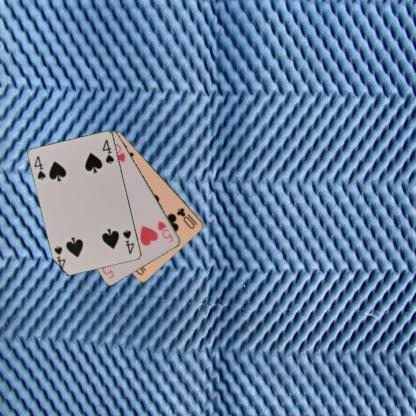10c: (174, 205, 199, 230)
4s: (120, 227, 136, 255), (32, 153, 47, 182)
5h: (155, 218, 175, 244)
